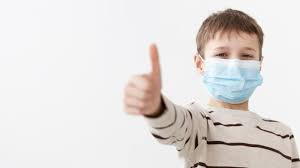with_mask: (196, 24, 267, 106)
